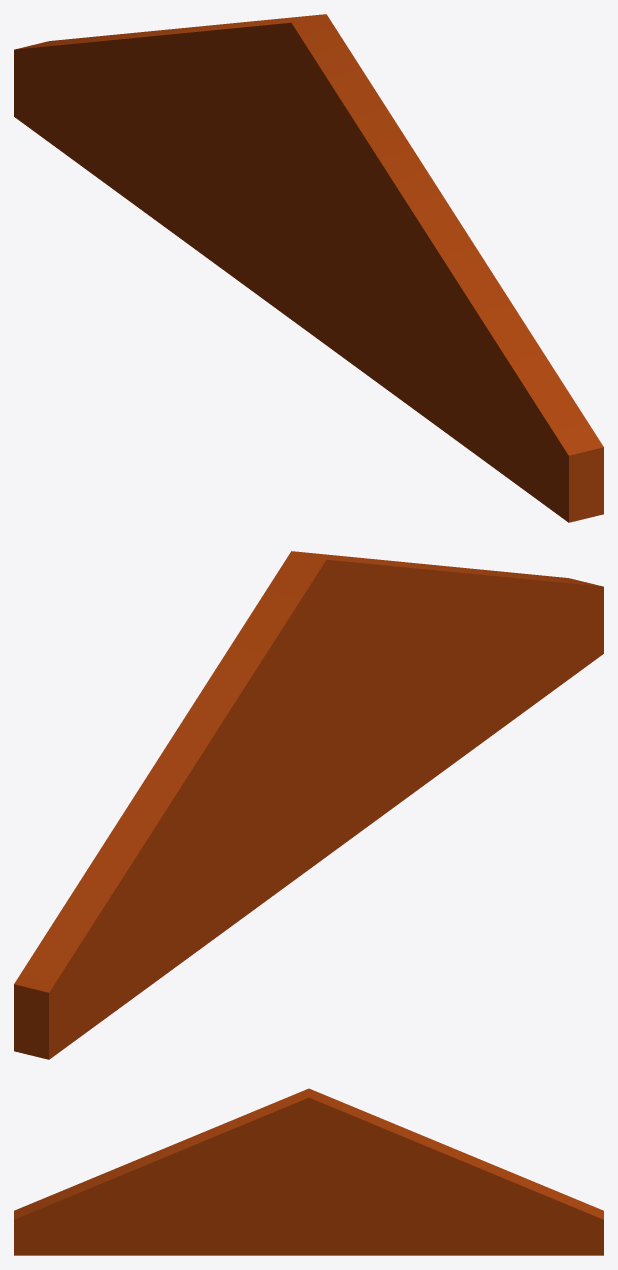
The model's file is Roof2Cap.FBX.
3 renders of one model, top to bottom at view 1: azimuth 30°, elevation 25°; view 2: azimuth 150°, elevation 25°; view 3: azimuth 270°, elevation 25°, orthographic. The views are drawn at different scales.
Visible parts, largest first — view 1: Roof2; view 2: Roof2; view 3: Roof2.
Boxes of the visible parts, x1,y1,x2,y2 form: Roof2: (14, 14, 603, 522); Roof2: (14, 551, 603, 1059); Roof2: (14, 1088, 603, 1255).
Bounding box in the file's own units: 0.15 × 1.21 × 4.1.
